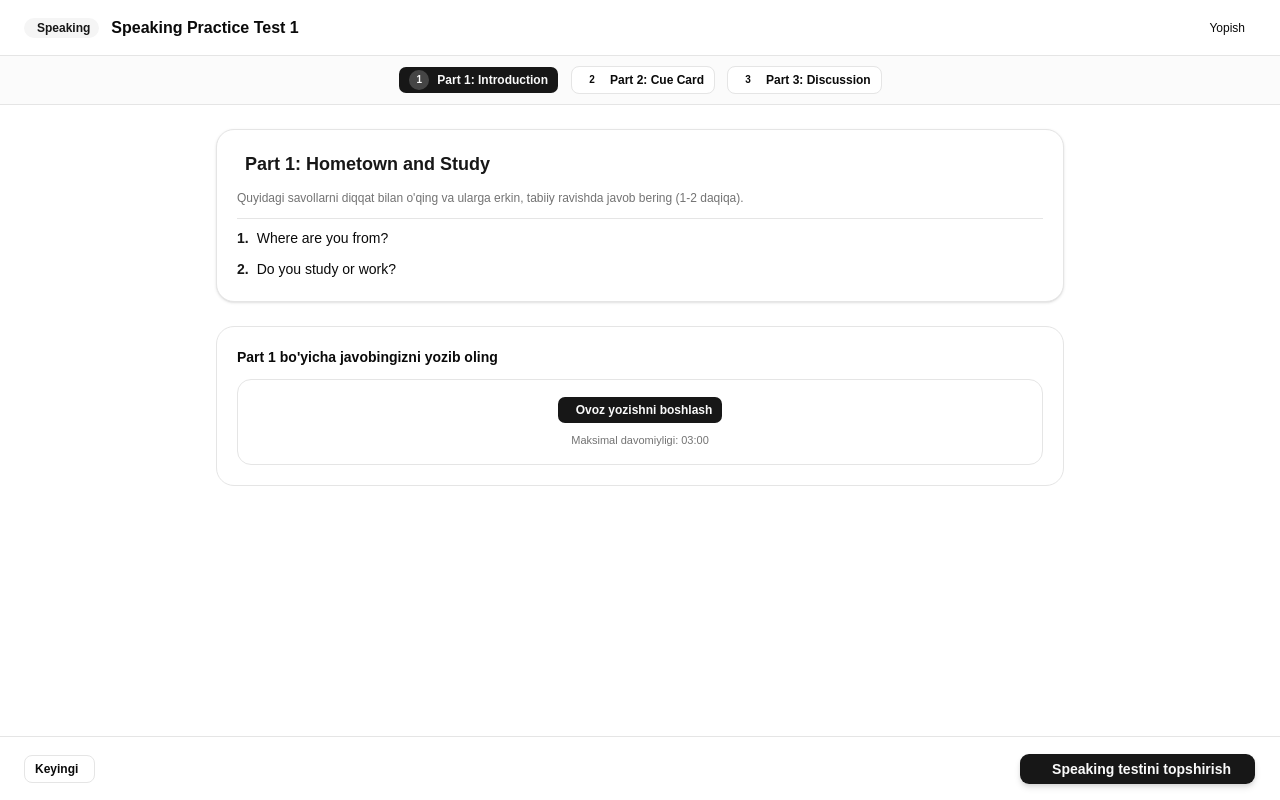
Test: SpeakingTaskRunner › renders Part 1 questions and navigates between Part 1, 2, and 3
Check: the heading "Speaking Practice Test 1" is shown, box top-left (111, 16), bottom-right (299, 40)
Check: the text "Where are you from?" is shown, box top-left (257, 227), bottom-right (388, 250)
Navigate to Part 2
Click the button "2 Part 2: Cue Card": (643, 80) top-left (571, 66), bottom-right (715, 94)
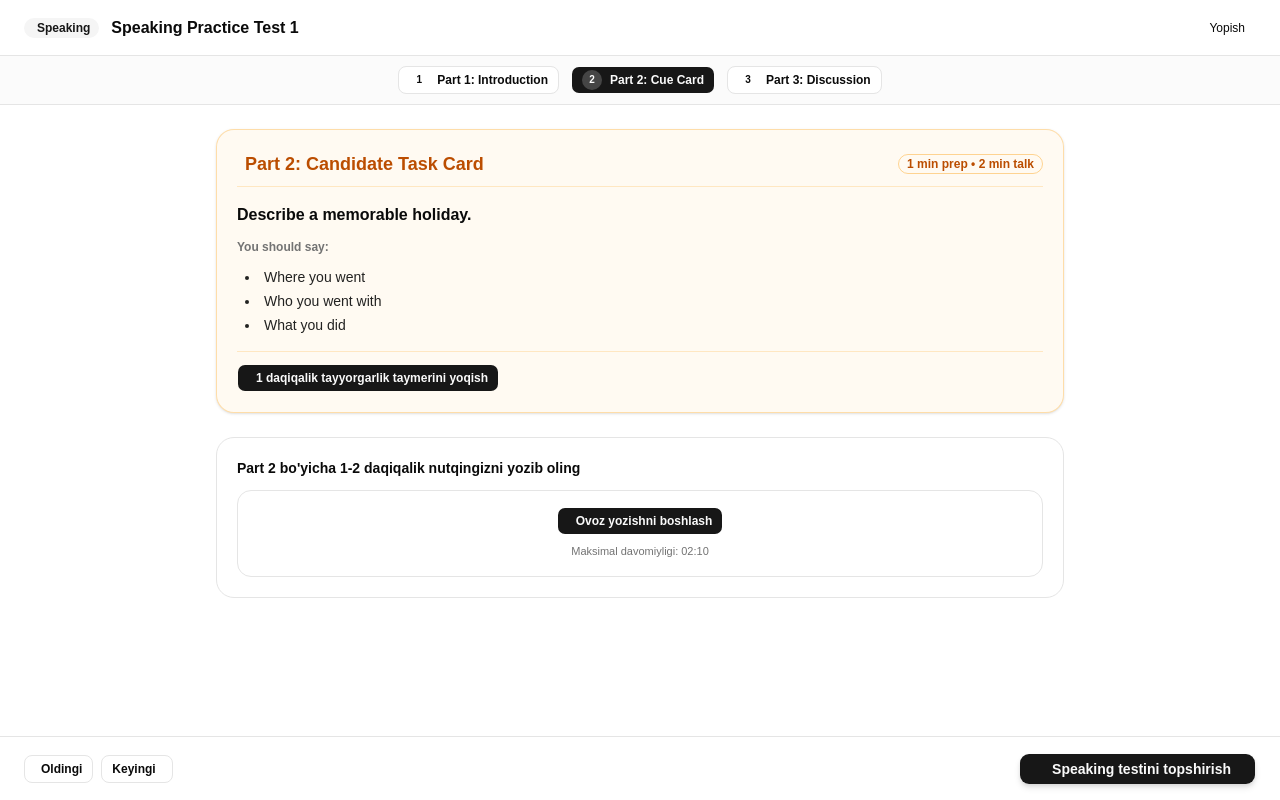
Check: the text "Describe a memorable holiday." is shown, box top-left (237, 206), bottom-right (472, 223)
Check: the list item "Where you went" is shown, box top-left (264, 269), bottom-right (365, 285)
Navigate to Part 3
Click the button "3 Part 3: Discussion": (804, 80) top-left (727, 66), bottom-right (882, 94)
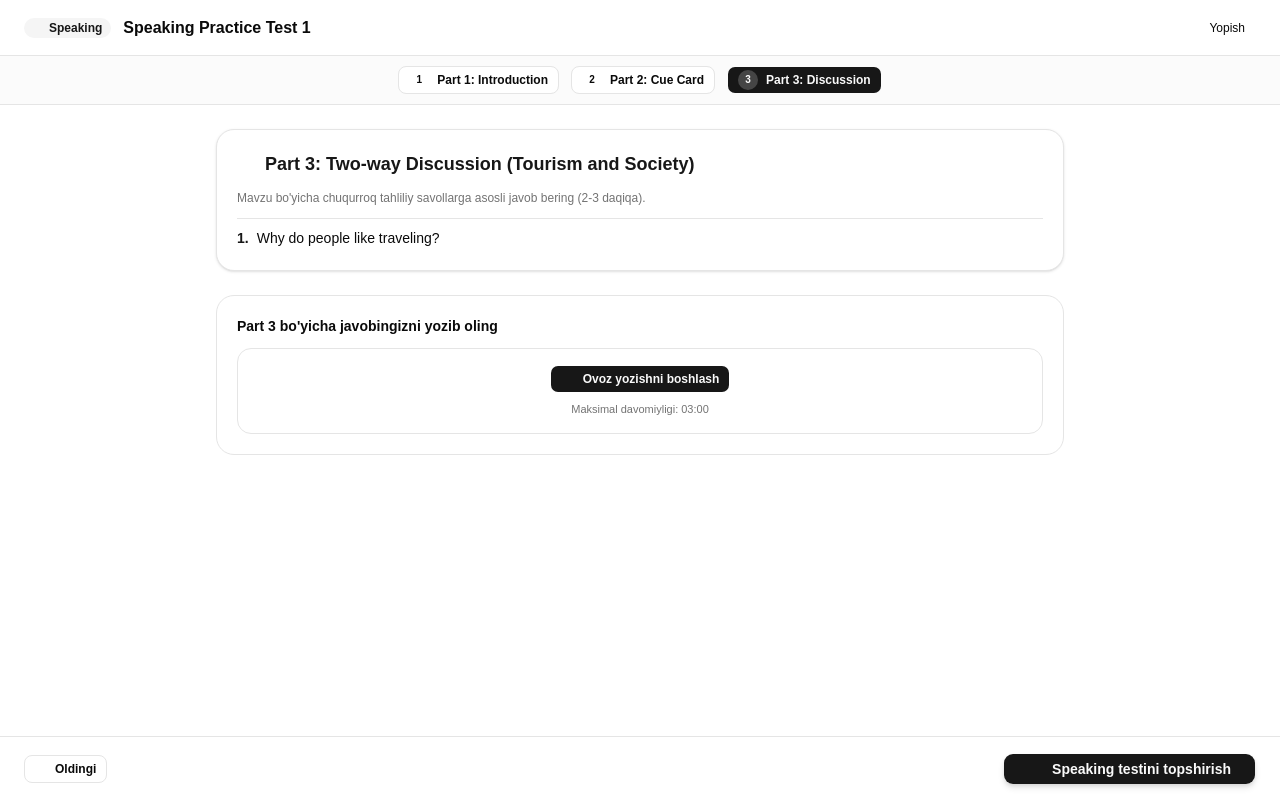
Check: the text "Why do people like traveling?" is shown, box top-left (257, 227), bottom-right (440, 250)
